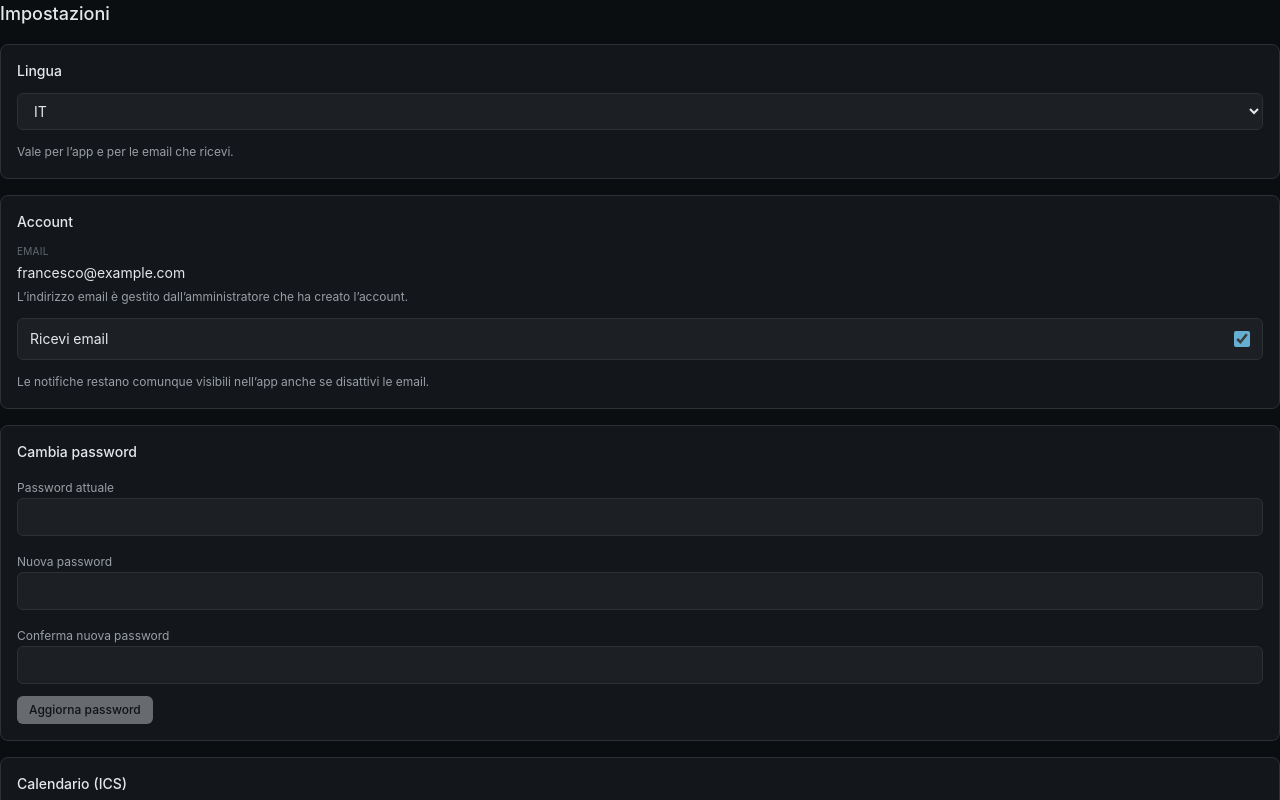
Test case: mismatched new passwords are refused client-side, before any request
In the password field labelled "Password attuale": (640, 516) 17,498 -> 1263,536, type "old-secret"
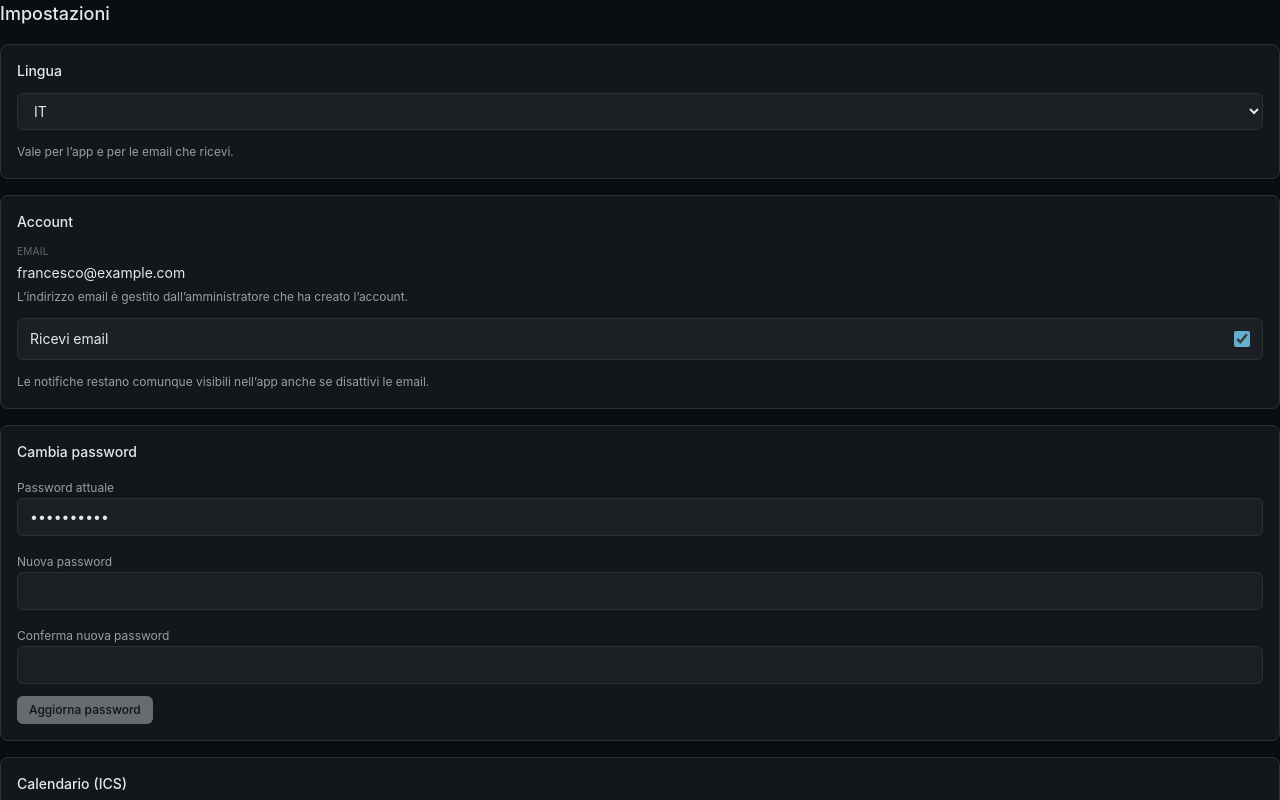
In the password field labelled "Nuova password": (640, 590) 17,572 -> 1263,610, type "new-secret"
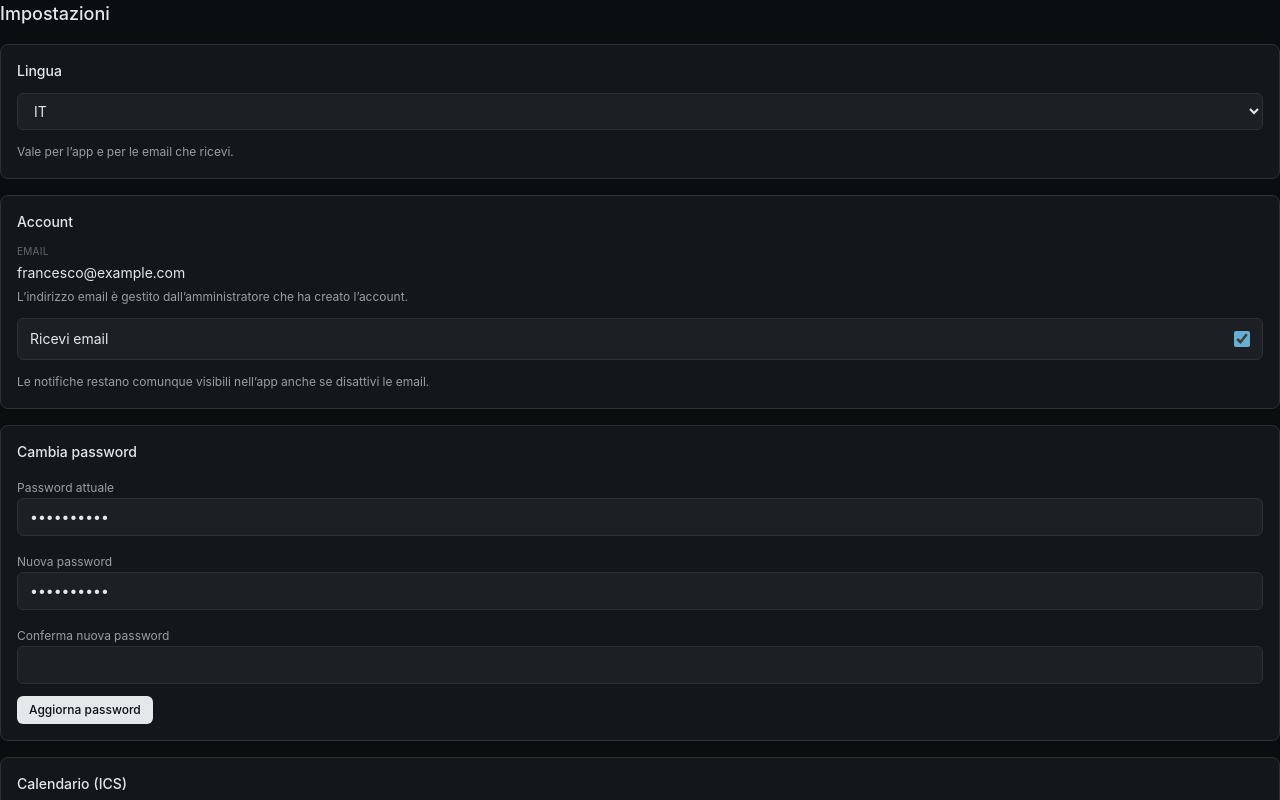
In the password field labelled "Conferma nuova password": (640, 664) 17,646 -> 1263,684, type "typo-secret"
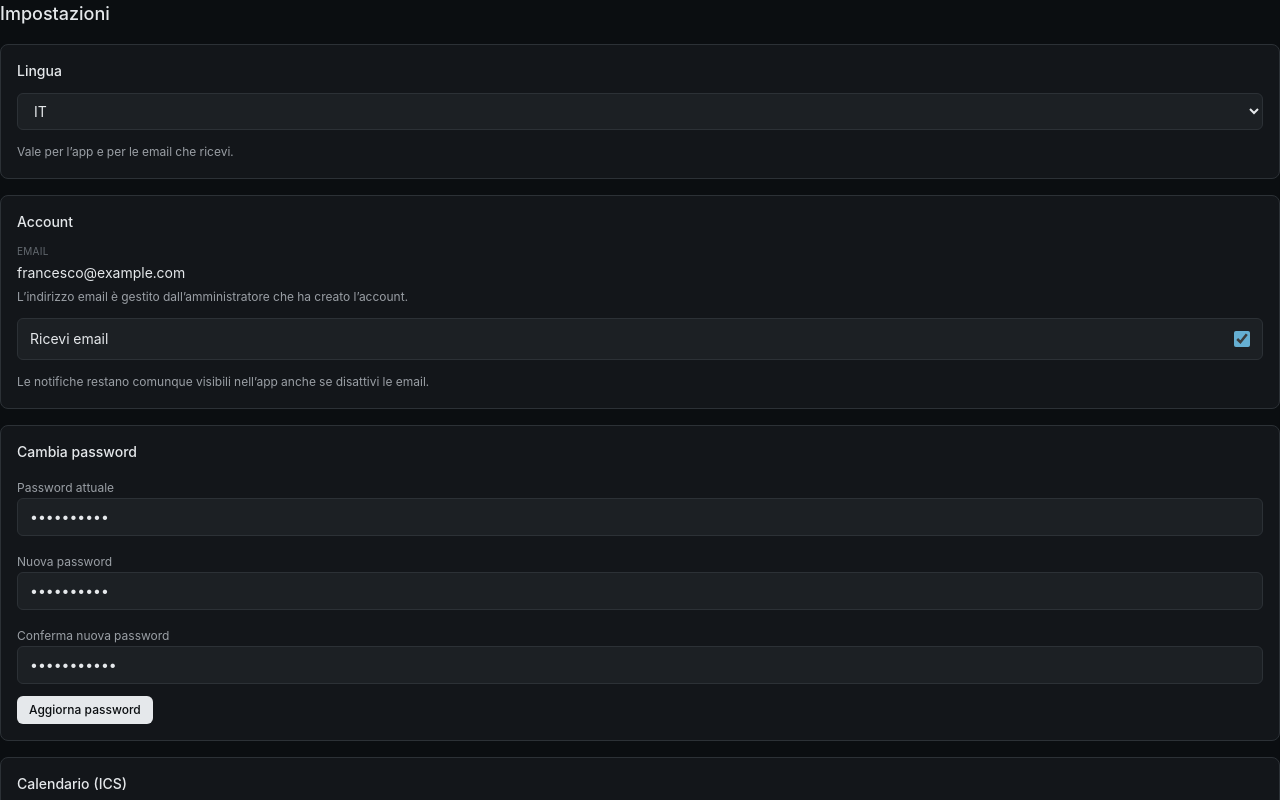
Click the button "Aggiorna password": (85, 710) 17,696 -> 153,724
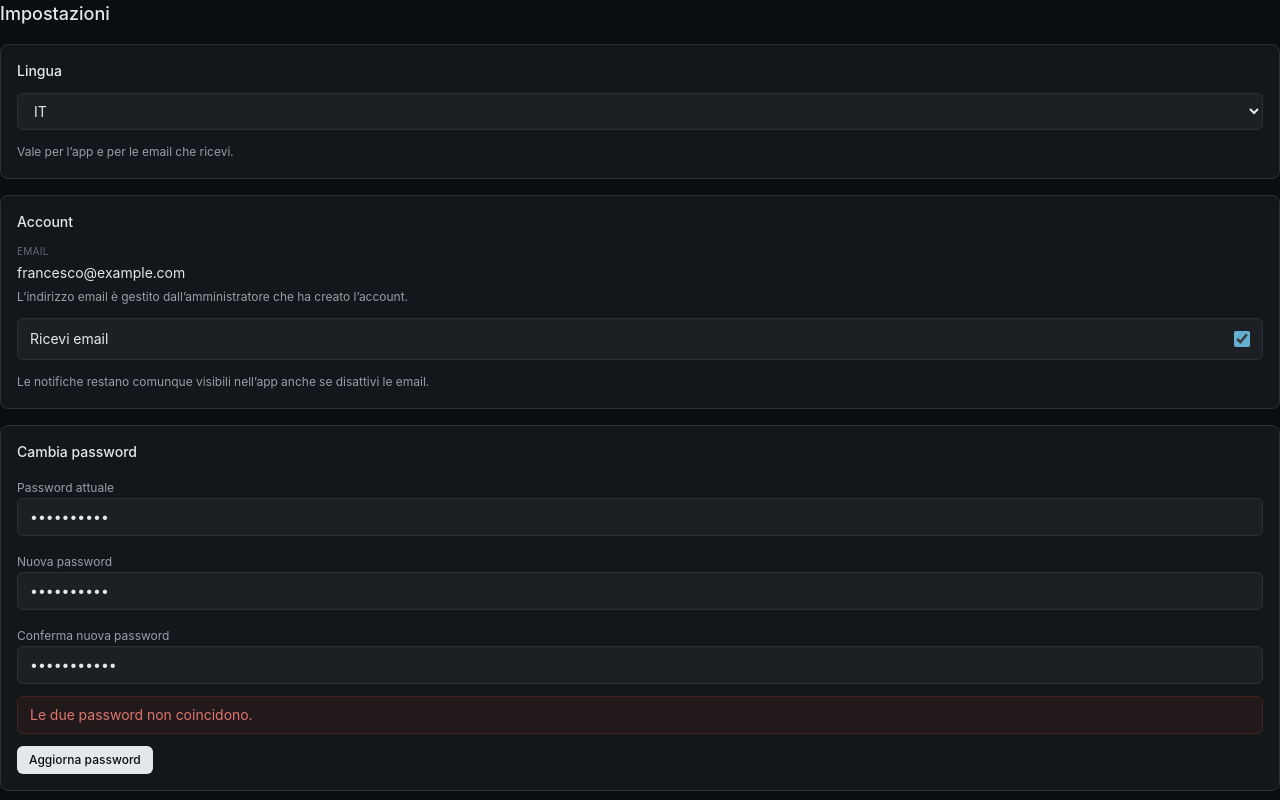
Result: the text "Le due password non coincidono." is shown at 30,704 -> 252,724
